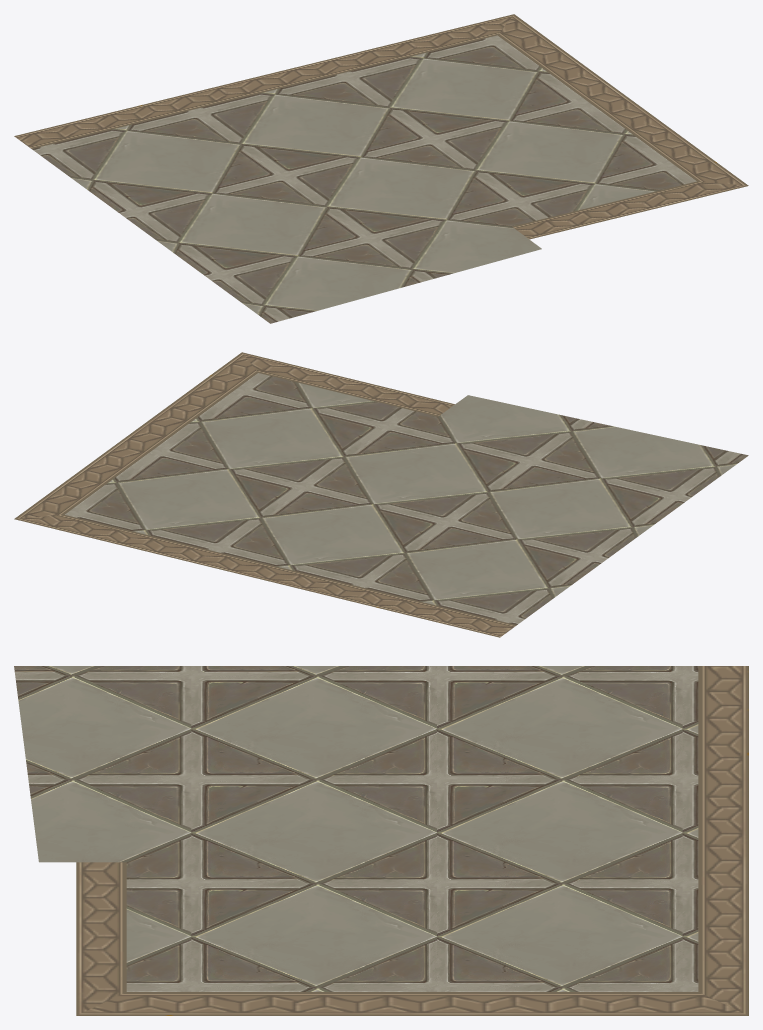
Rendered from WC_dimian02.FBX.
3 views of the same model, one above another, from view 1: azimuth 30°, elevation 25°; view 2: azimuth 150°, elevation 25°; view 3: azimuth 270°, elevation 25° (orthographic). The views are drawn at different scales.
Visible parts, largest first — view 1: WC_dimian02_001; view 2: WC_dimian02_001; view 3: WC_dimian02_001.
Boxes of the visible parts, bbox=[...] form: WC_dimian02_001: bbox=[14, 14, 748, 323]; WC_dimian02_001: bbox=[14, 352, 748, 637]; WC_dimian02_001: bbox=[14, 666, 748, 1015].
Bounding box in the file's own units: 1106 × 7.73e-05 × 982.
